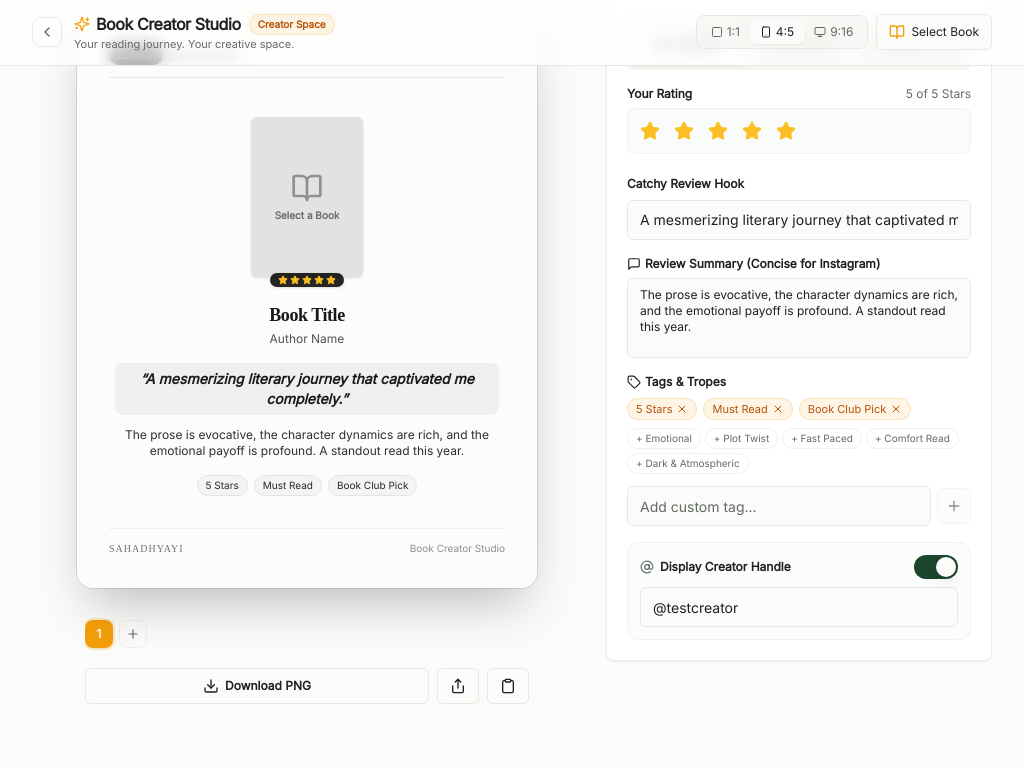
Scenario: Book Creator Studio - Phase 1 Full Implementation › BookCreatorStudio Page & Export Workflow › renders the complete studio workspace, headers, and quick-export controls
This screenshot has width=1024, height=768.
(page scrolled)
Check: the text "Book Creator Studio" is shown, box [74, 12, 241, 36]
Check: the text "Your reading journey. Your creative space." is shown, box [74, 37, 294, 51]
// Add a slide to carousel
Click the button titled "Add new slide to carousel": x=133, y=634 [119, 620, 147, 648]
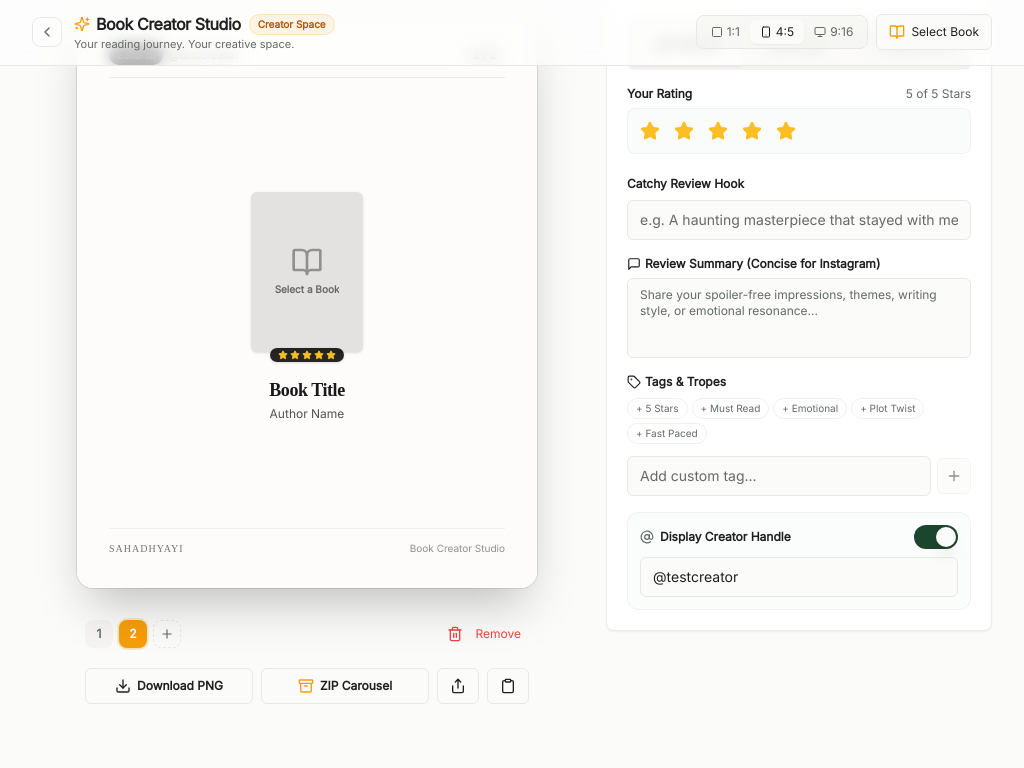
Check: the button "2" is shown, box [119, 620, 147, 648]
Check: the button "ZIP Carousel" is shown, box [261, 668, 429, 704]
